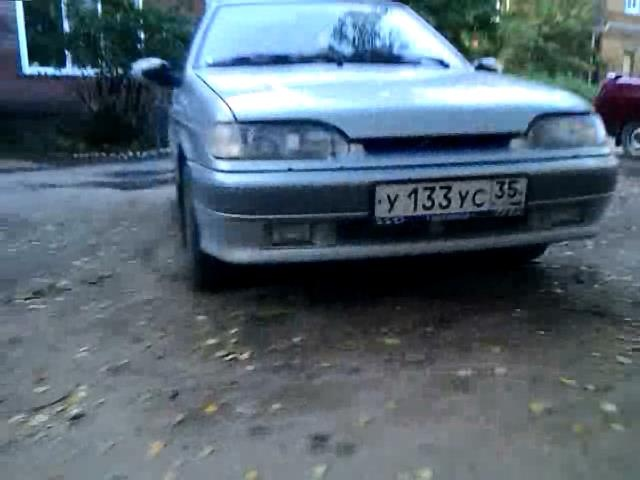car license plate: (373, 173, 529, 224)
